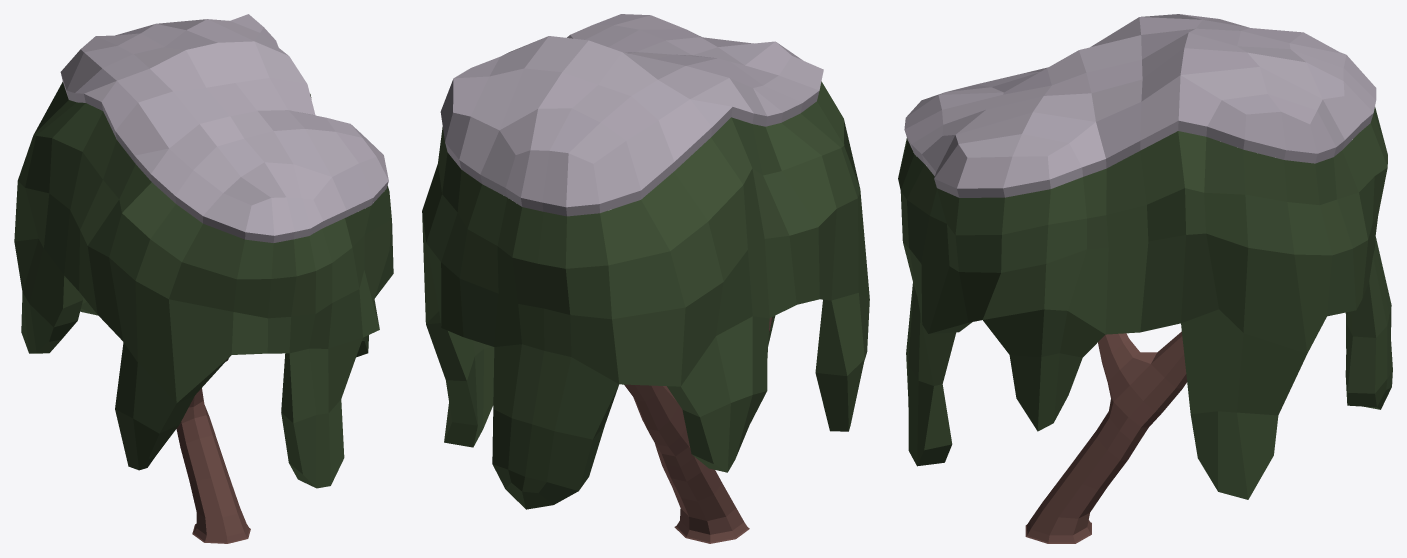
Rendered from Willow_Snow_4-transformed.glb.
The picture shows the model from 3 angles, left to right: view 1: azimuth 30°, elevation 25°; view 2: azimuth 150°, elevation 25°; view 3: azimuth 270°, elevation 25°; orthographic projection. The views are drawn at different scales.
Visible parts, largest first — view 1: Willow_Snow_4; view 2: Willow_Snow_4; view 3: Willow_Snow_4.
Boxes of the visible parts, x1=… form: Willow_Snow_4: x1=14, y1=14, x2=393, y2=543; Willow_Snow_4: x1=422, y1=14, x2=869, y2=543; Willow_Snow_4: x1=898, y1=14, x2=1392, y2=543.
Bounding box in the file's own units: 2.19 × 3.46 × 3.04.
